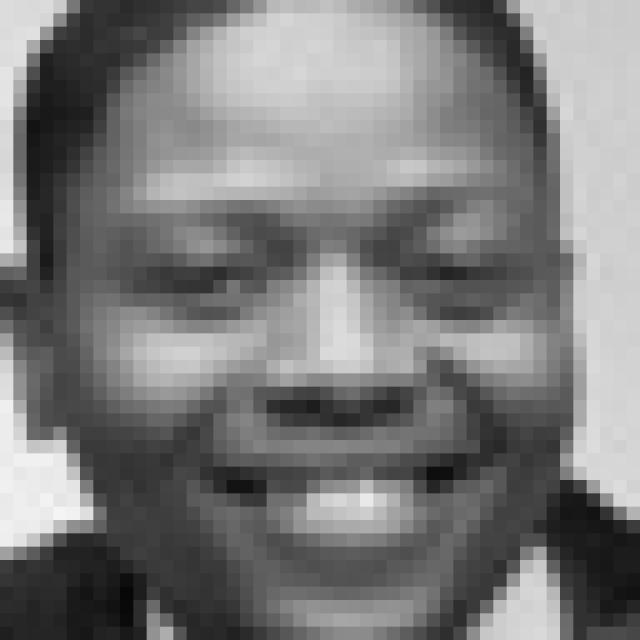happy: (101, 174, 525, 595)
